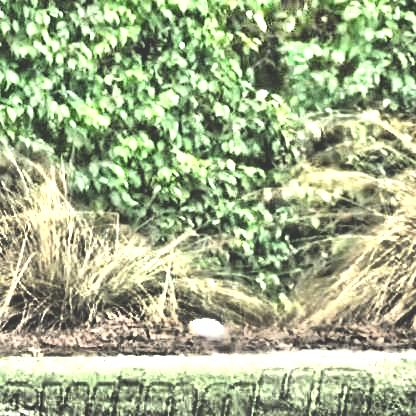golfball: (185, 315, 221, 337)
